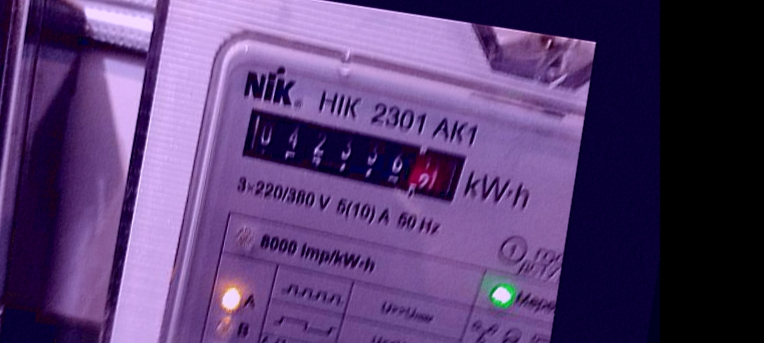0: (257, 118, 275, 149)
2: (309, 128, 331, 157)
3: (335, 132, 355, 163), (364, 137, 382, 167)
4: (283, 123, 303, 152)
6: (388, 147, 407, 176)
screen: (227, 97, 477, 214)
